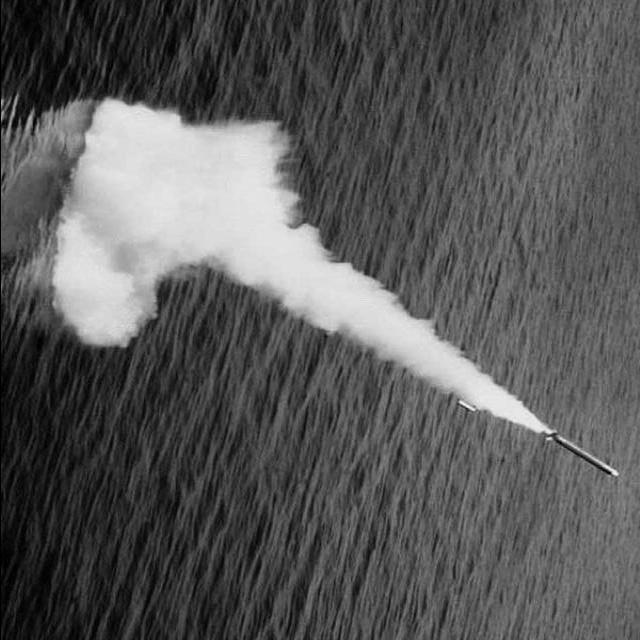missile: (537, 424, 629, 482)
